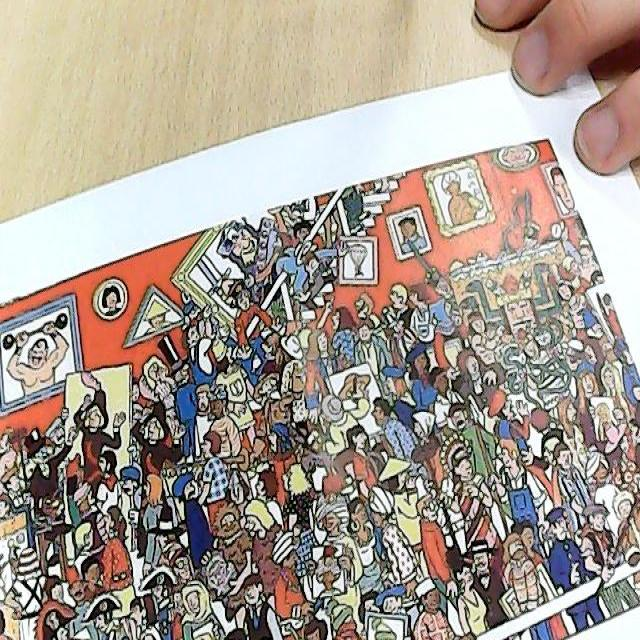waldo: (167, 545, 191, 583)
